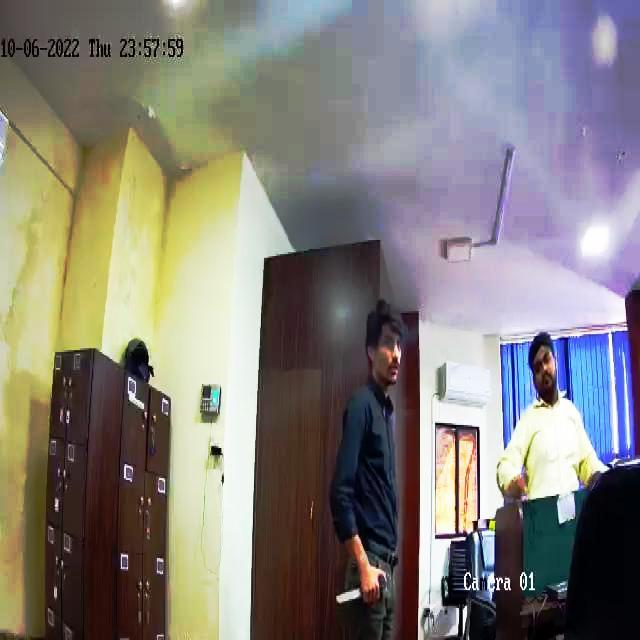Knife: (331, 564, 387, 608)
